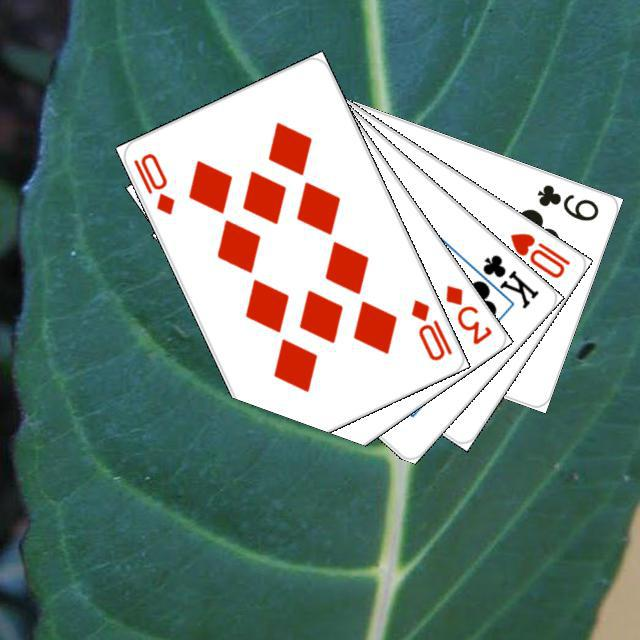10d: (405, 294, 454, 363), (128, 147, 177, 216)
10h: (505, 227, 572, 280)
3d: (440, 280, 494, 347)
9c: (532, 179, 601, 223)
Kc: (464, 249, 541, 311)
